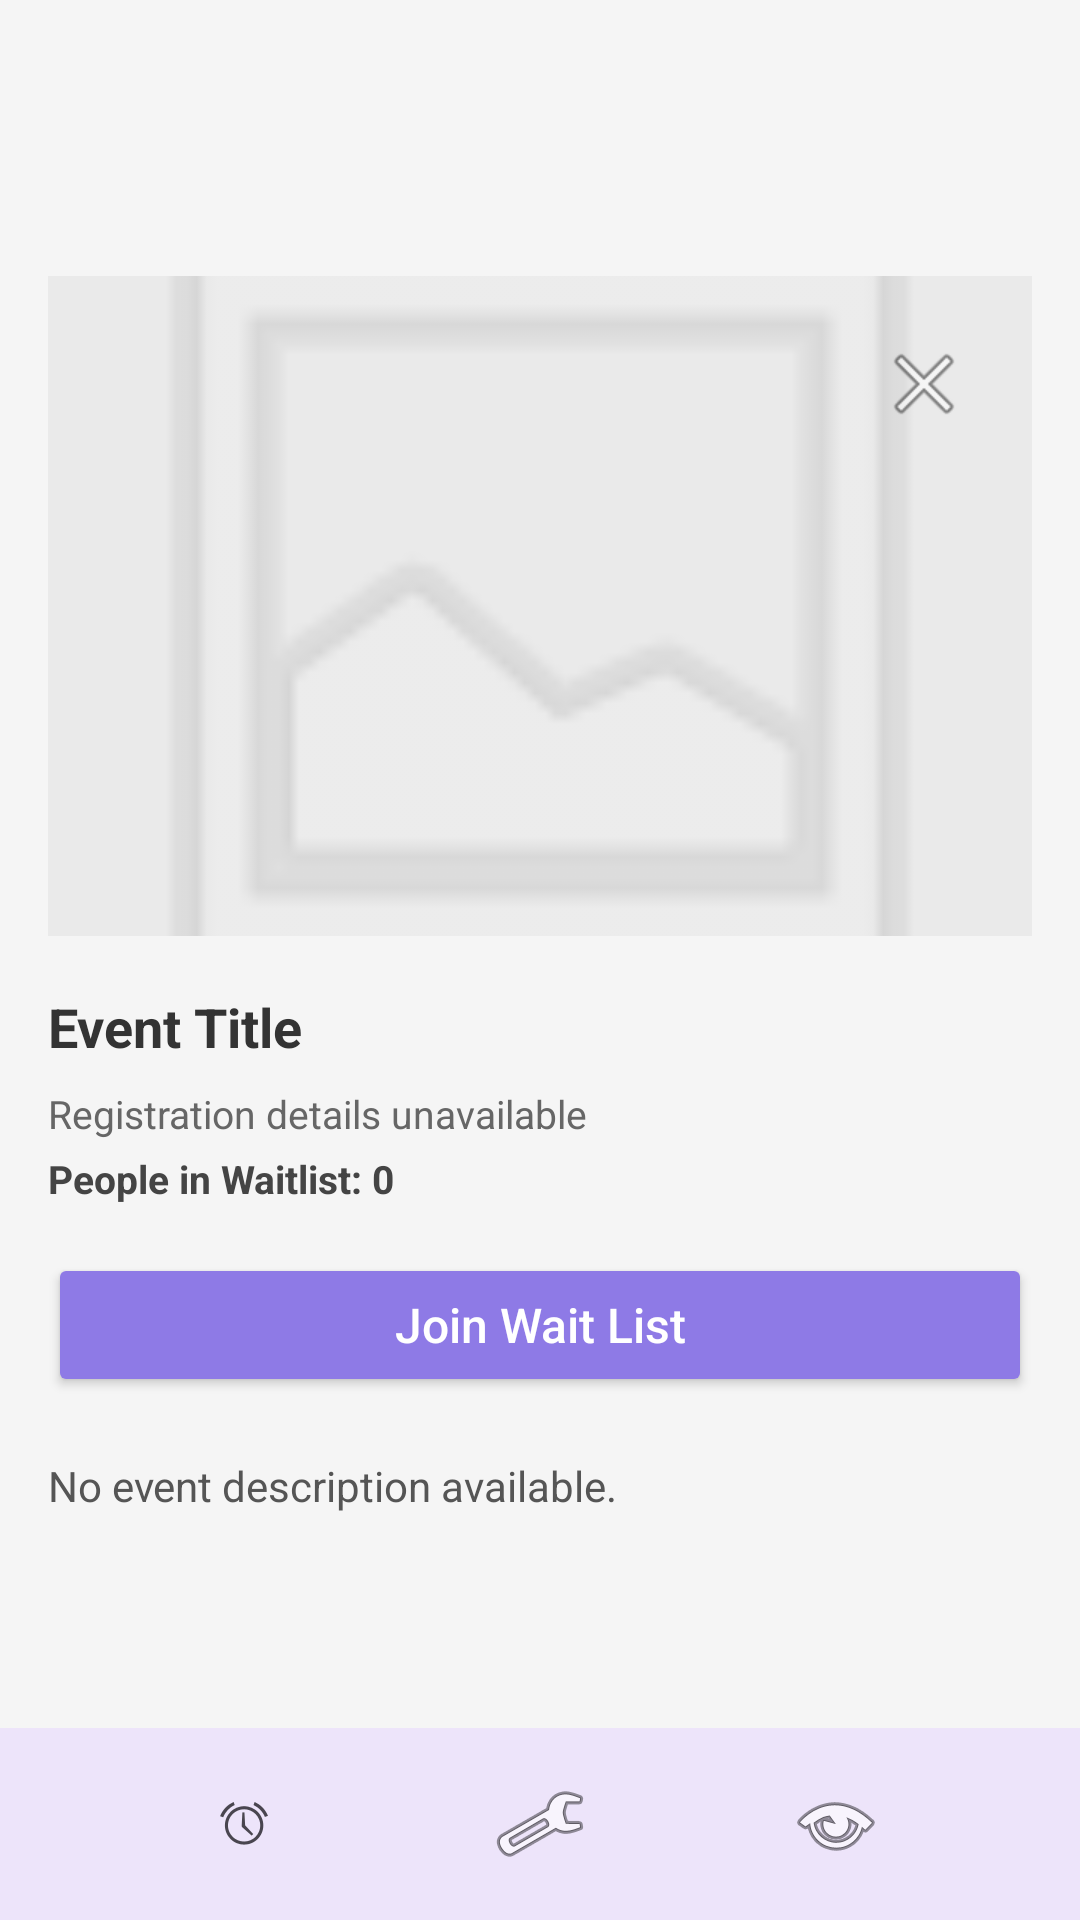

Icon bounding boxes for this 1080px x 1920px phone screenshot, format bbox(x1, y1, x2, y2):
Close: bbox(894, 354, 954, 414)
Settings: bbox(497, 1791, 583, 1857)
